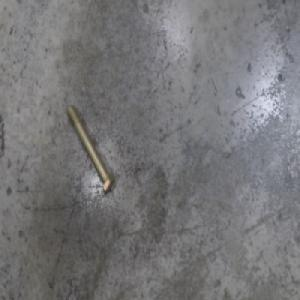Bolt: (66, 103, 115, 195)
